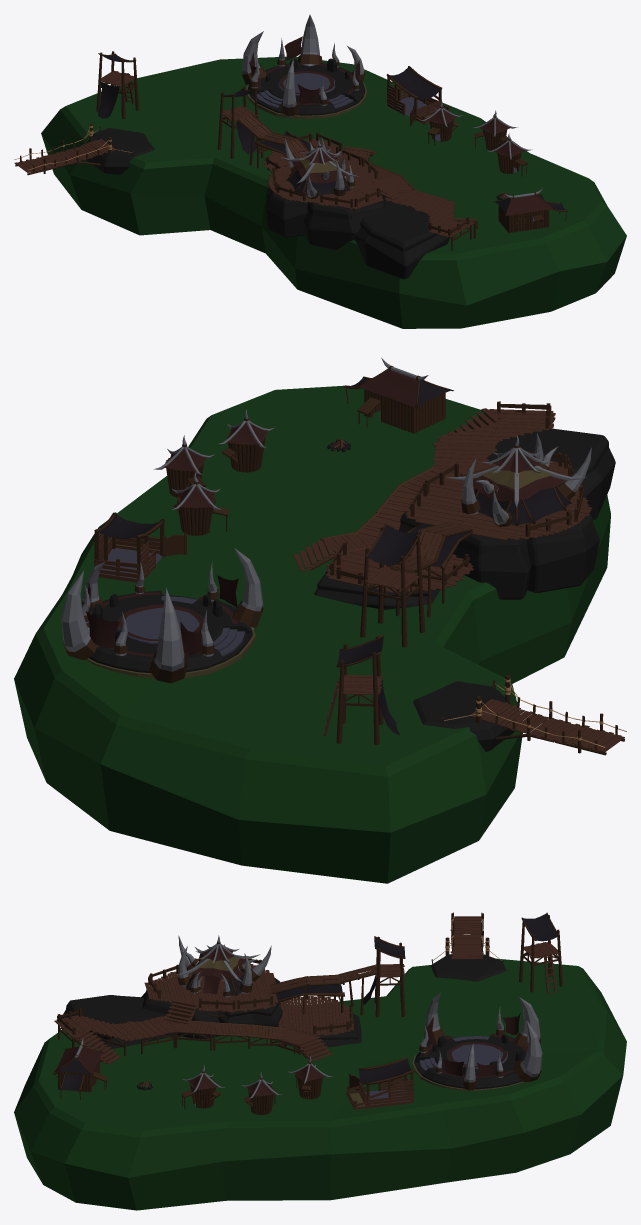
Rendered from Assets - Village1.0 .fbx.
3 views of the same model, one above another, from view 1: azimuth 30°, elevation 25°; view 2: azimuth 150°, elevation 25°; view 3: azimuth 270°, elevation 25° (orthographic). The views are drawn at different scales.
Visible parts, largest first — view 1: 0 Land Size, Stone Foundation.004, Stone Foundation.005, Arena Foundation.004, Wood Bridge Foundation.001, Stone Foundation.008, Building Fabric basic.006, Building Roof 2.004, Arena Foundation.005, Wood Bridge End.001, Building Roof 1.002, Wood Fence .017 (+13 smaller); view 2: 0 Land Size, Arena Foundation.004, Stone Foundation.008, Stone Foundation.004, Wood Bridge Foundation.001, Stone Foundation.007, Building Roof 2.004, Tooth 1.009, Wood Bridge End.001, Arena Foundation.005, Building Roof 1.002, Wood Fence .017 (+26 smaller); view 3: 0 Land Size, Stone Foundation.004, Arena Foundation.004, Wood Bridge Foundation.001, Wood Fence .017, Arena Foundation.005, Building Roof 2.004, Stone Foundation.006, Tooth 1.010, Building Roof 1.002, Building Fabric basic.006, Stone Foundation.009 (+25 smaller).
Boxes of the visible parts, x1,y1,x2,y2 form: 0 Land Size: (41, 56, 626, 328); Stone Foundation.004: (354, 201, 449, 279); Stone Foundation.005: (304, 191, 386, 249); Arena Foundation.004: (247, 62, 365, 115); Wood Bridge Foundation.001: (84, 128, 154, 174); Stone Foundation.008: (265, 191, 307, 237); Building Fabric basic.006: (386, 66, 442, 99); Building Roof 2.004: (281, 150, 359, 183); Arena Foundation.005: (278, 71, 335, 96); Wood Bridge End.001: (48, 139, 115, 165); Building Roof 1.002: (493, 194, 554, 216); Wood Fence .017: (387, 83, 450, 124); 0 Land Size: (14, 385, 610, 883); Arena Foundation.004: (88, 590, 252, 673); Stone Foundation.008: (527, 515, 599, 592); Stone Foundation.004: (486, 428, 615, 519); Wood Bridge Foundation.001: (413, 681, 517, 751); Stone Foundation.007: (453, 530, 531, 599); Building Roof 2.004: (446, 465, 586, 506); Tooth 1.009: (149, 588, 187, 683); Wood Bridge End.001: (469, 699, 574, 741); Arena Foundation.005: (117, 604, 203, 643); Building Roof 1.002: (356, 368, 453, 408); Wood Fence .017: (94, 533, 159, 582); 0 Land Size: (14, 958, 626, 1210); Stone Foundation.004: (61, 995, 173, 1049); Arena Foundation.004: (414, 1034, 527, 1089); Wood Bridge Foundation.001: (431, 954, 506, 981); Wood Fence .017: (346, 1076, 413, 1109); Arena Foundation.005: (447, 1042, 507, 1069); Building Roof 2.004: (177, 947, 260, 982); Stone Foundation.006: (217, 993, 282, 1034); Tooth 1.010: (512, 1021, 542, 1081); Building Roof 1.002: (54, 1046, 103, 1075); Building Fabric basic.006: (358, 1057, 414, 1085); Stone Foundation.009: (265, 1004, 361, 1046).
Size of the model in its own units: 16087 by 13889 by 4341.
